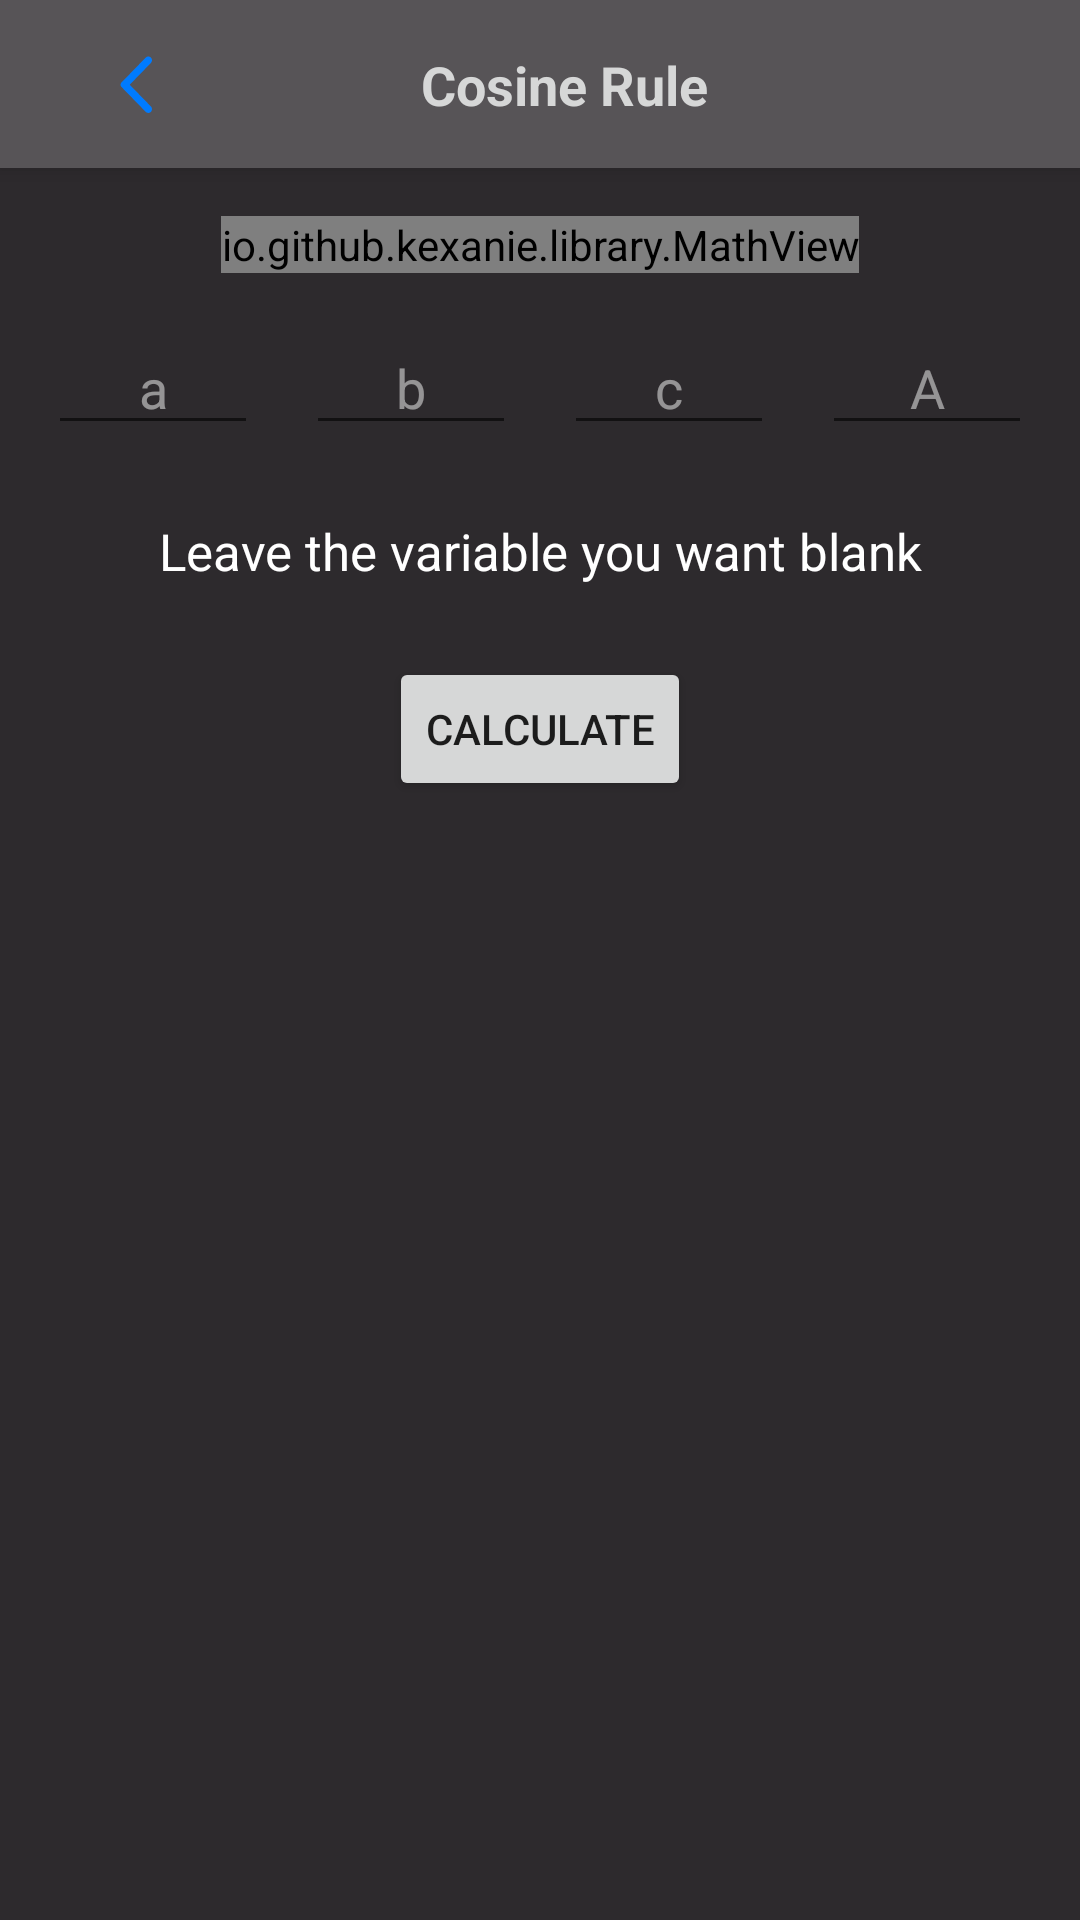

Icons on this 1080*1920 Android screen, each with its box as [x1,y1,x2,y2]:
back: [120,56,152,113]
